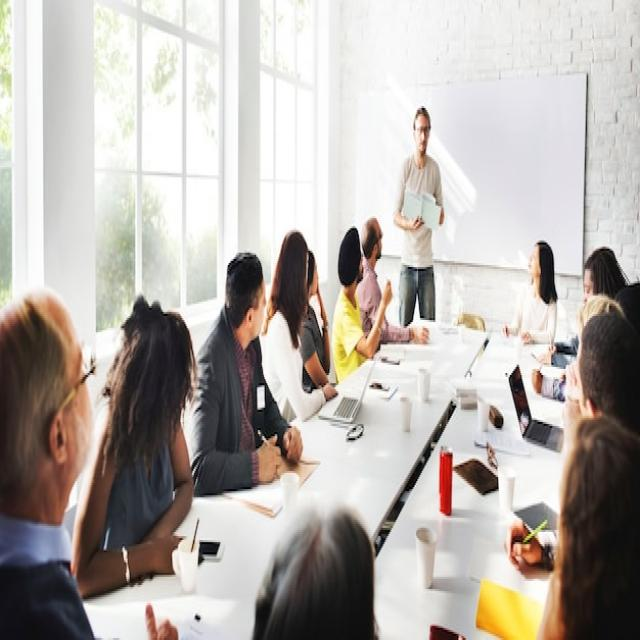adult: (0, 287, 103, 637), (76, 301, 195, 581), (192, 252, 302, 488), (397, 97, 447, 323), (358, 214, 428, 350), (329, 229, 391, 372), (504, 236, 559, 352)
